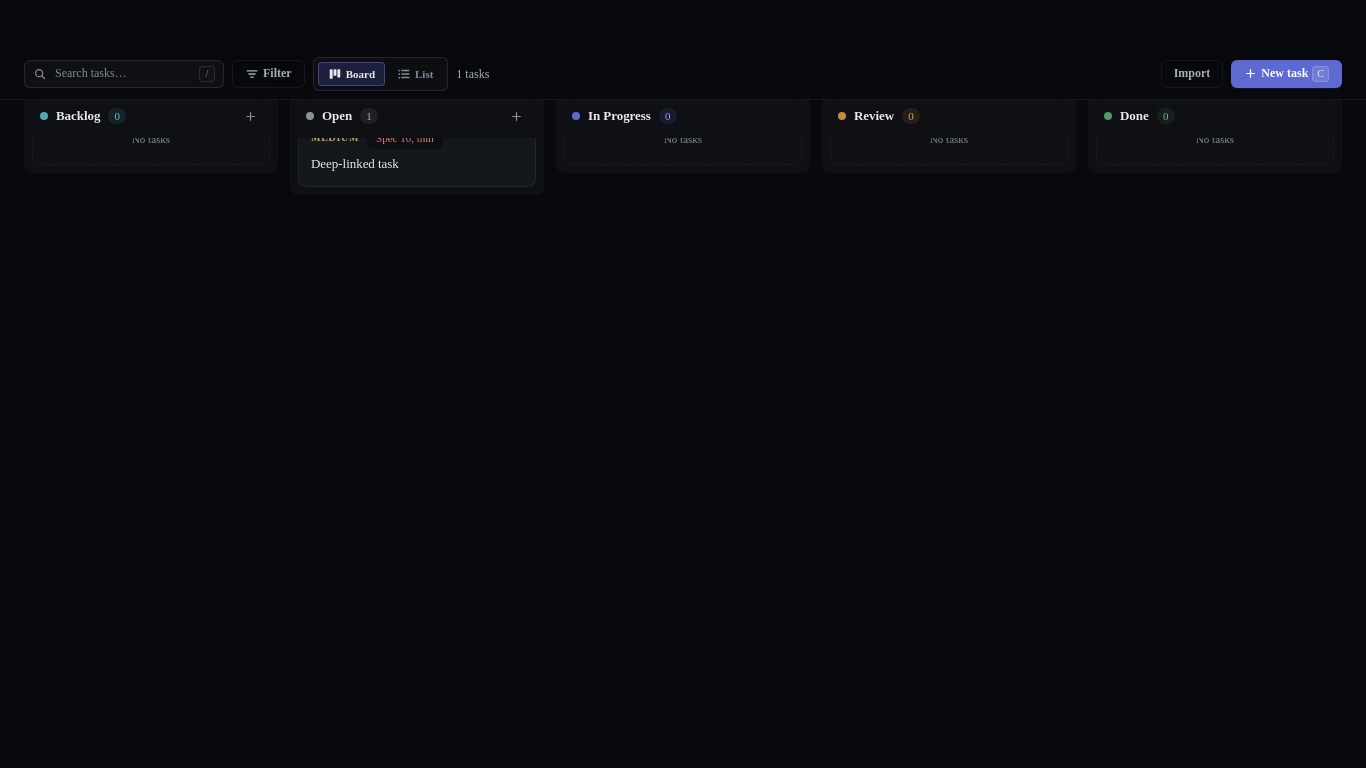
Test: dashboard board column + buttons preselect their own column (column gating, operator decision 2026-08-20) › the Backlog column's + opens the modal with Backlog preselected
The width and height of the screenshot is (1366, 768).
Expected: the button "New task C" is enabled, [1231,60,1342,88]
Click the button named "Add task to Backlog": [250, 116] box [238,104,262,128]
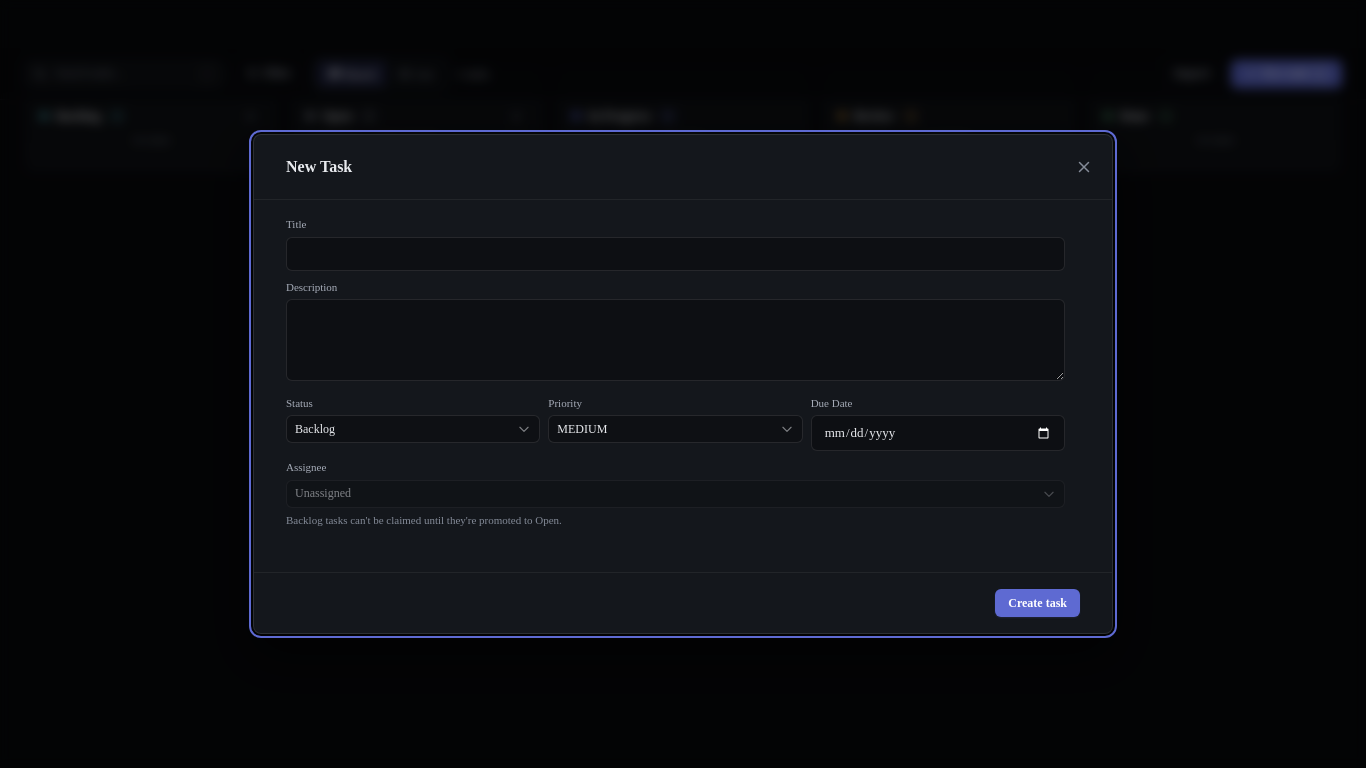
Result: the dropdown named "Status" reads "Backlog" at [286,415,540,443]
